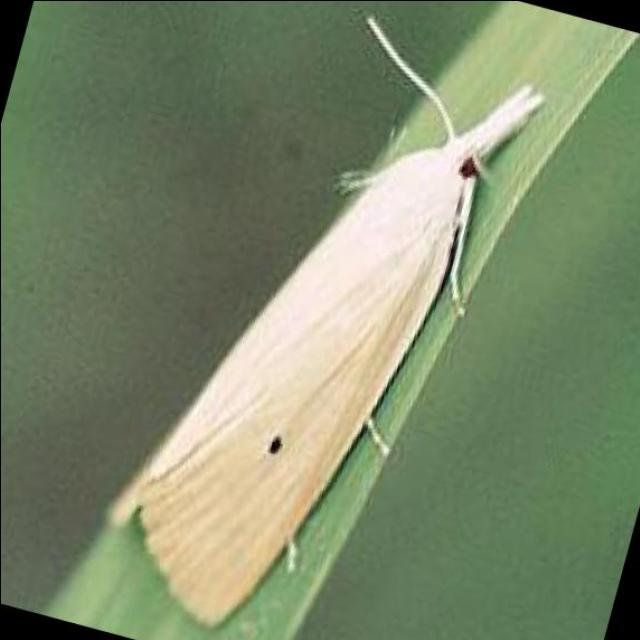stem borer: (111, 18, 543, 623)
